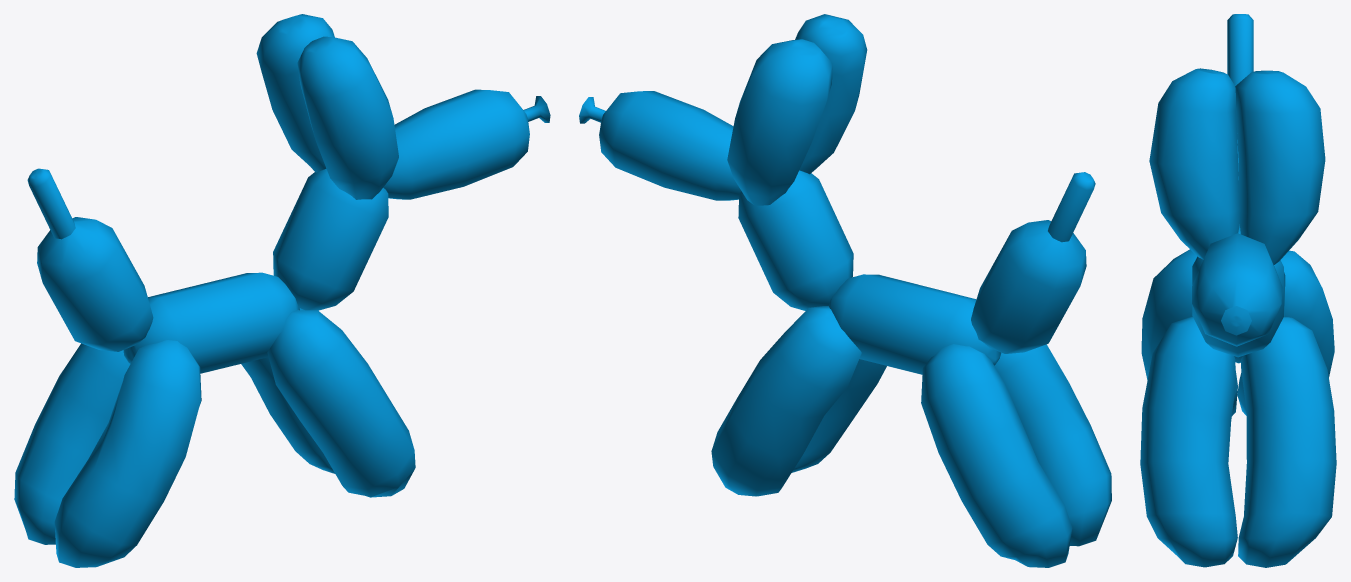
Rendered from BalloonDog.fbx.
The picture shows the model from 3 angles, left to right: view 1: azimuth 30°, elevation 25°; view 2: azimuth 150°, elevation 25°; view 3: azimuth 270°, elevation 25°; orthographic projection.
Parts seen in each view (by area): view 1: Cylinder.004; view 2: Cylinder.004; view 3: Cylinder.004.
Part boxes in pixels (x1,y1,x2,y2): Cylinder.004: [14, 14, 550, 567]; Cylinder.004: [579, 14, 1111, 567]; Cylinder.004: [1140, 14, 1336, 567].
Size of the model in its own units: 206 by 175 by 67.23.
